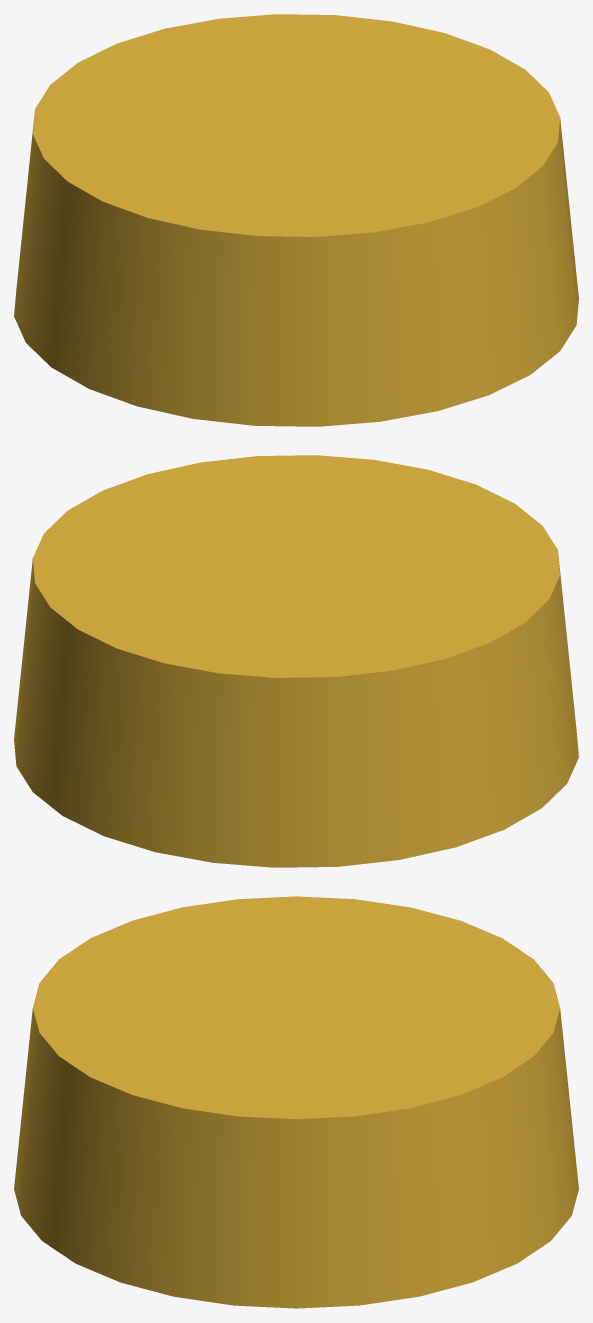
The model's file is gold-cuffs.glb.
The picture shows the model from 3 angles, top to bottom: view 1: azimuth 30°, elevation 25°; view 2: azimuth 150°, elevation 25°; view 3: azimuth 270°, elevation 25°; orthographic projection.
Visible parts, largest first — view 1: gold-cuffs; view 2: gold-cuffs; view 3: gold-cuffs.
Boxes of the visible parts, x1=… form: gold-cuffs: x1=14, y1=14, x2=578, y2=426; gold-cuffs: x1=14, y1=455, x2=578, y2=867; gold-cuffs: x1=14, y1=896, x2=578, y2=1308.
Bounding box in the file's own units: 0.48 × 0.17 × 0.48.
